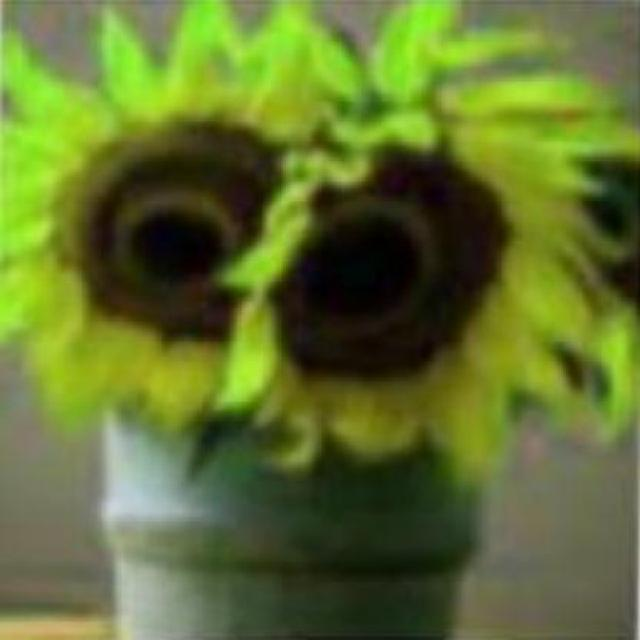sunflower: (263, 3, 593, 475), (2, 20, 264, 452)
